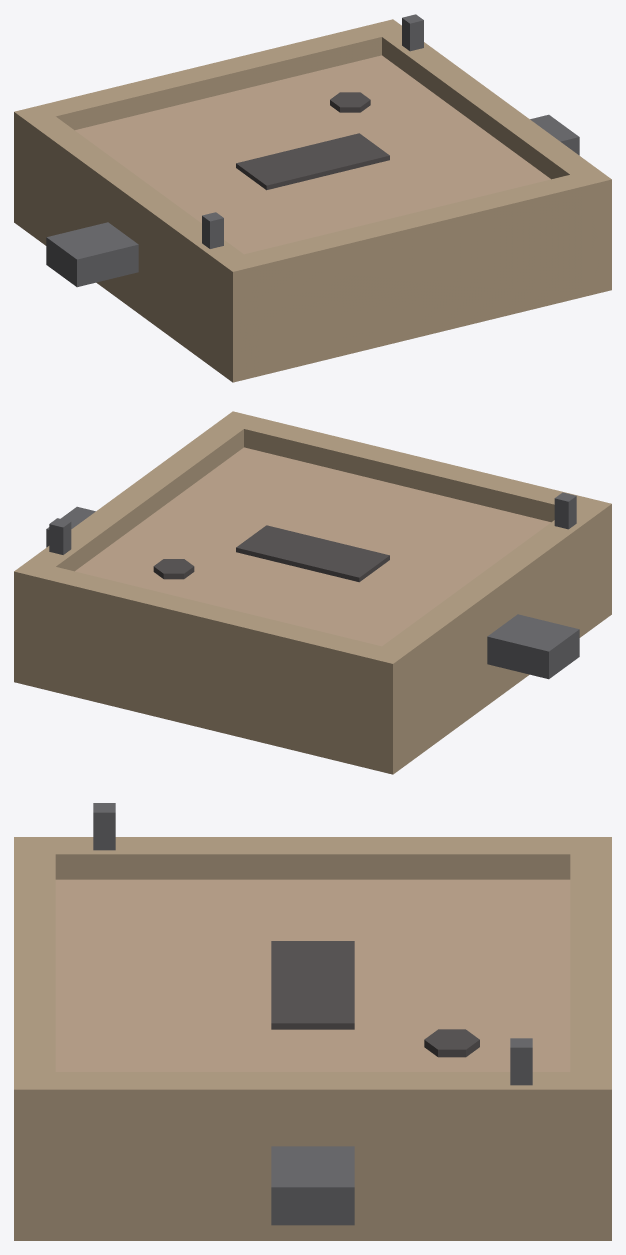
Rendered from prop-flask-mold-half.fbx.
3 views of the same model, one above another, from view 1: azimuth 30°, elevation 25°; view 2: azimuth 150°, elevation 25°; view 3: azimuth 270°, elevation 25° (orthographic). The views are drawn at different scales.
Parts seen in each view (by area): view 1: prop-flask-mold-half; view 2: prop-flask-mold-half; view 3: prop-flask-mold-half.
Part boxes in pixels (x1=…): prop-flask-mold-half: x1=14, y1=14, x2=611, y2=382; prop-flask-mold-half: x1=14, y1=411, x2=611, y2=774; prop-flask-mold-half: x1=14, y1=803, x2=611, y2=1240.
Bounding box in the file's own units: 57 × 15 × 43.
